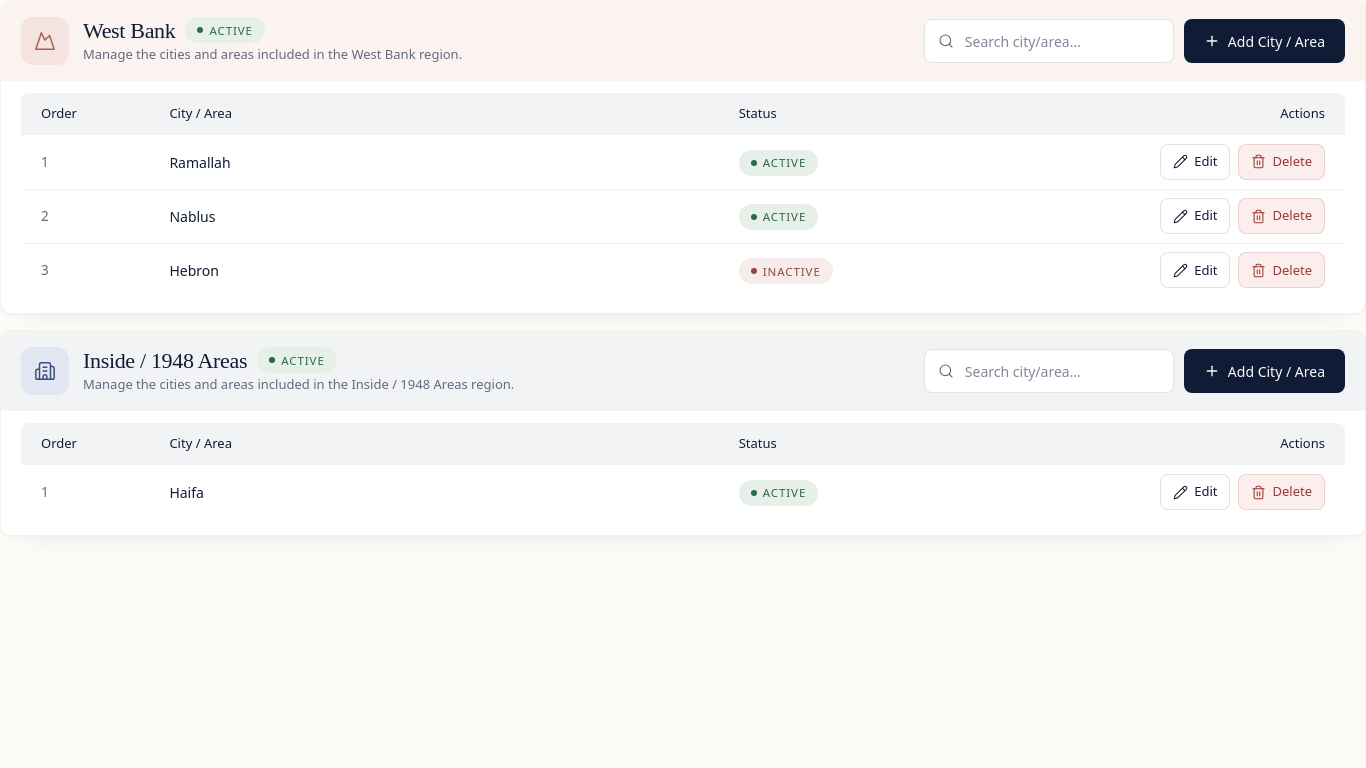
Delete › never deletes on the first click — it asks for confirmation, focusing Cancel
This screenshot has width=1366, height=768.
Click the 1st button "Delete".
click(1282, 162)  # box [1238,144,1325,180]
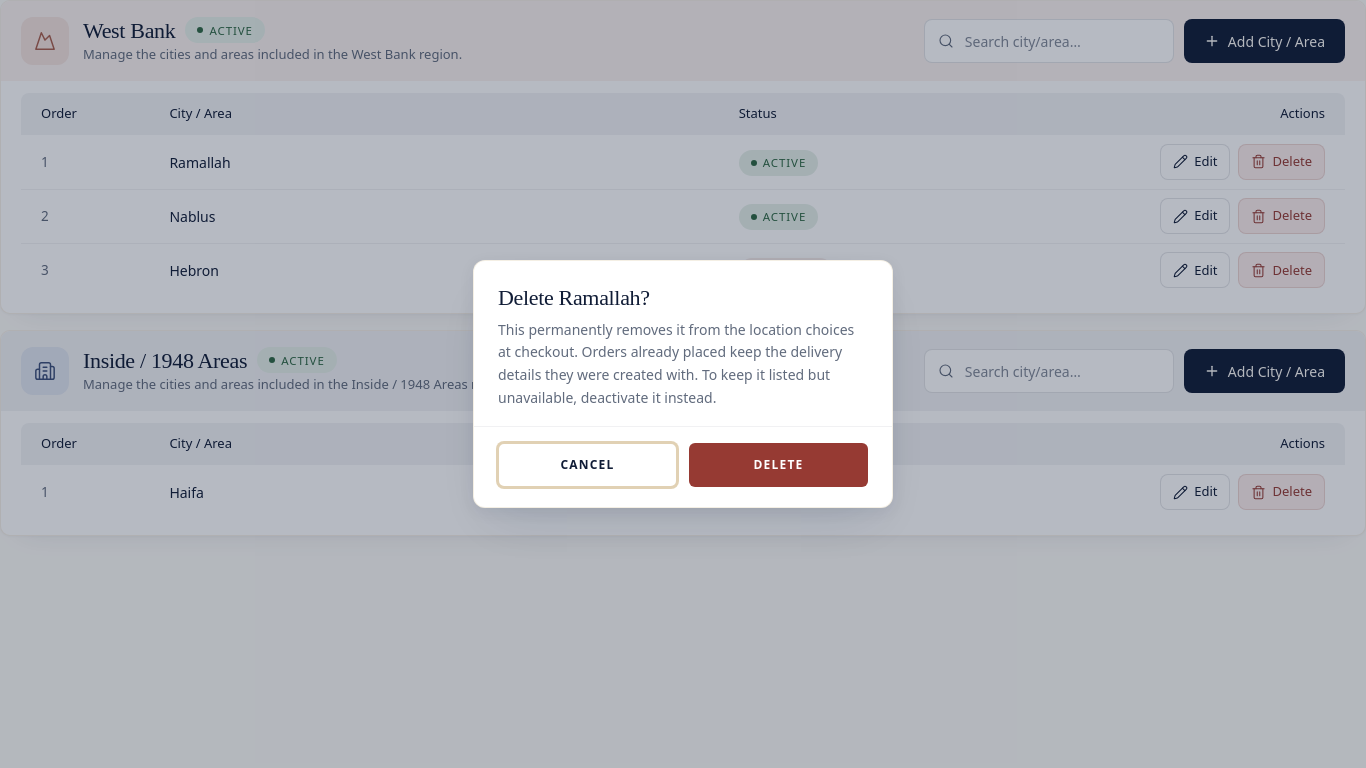
Expected: the heading "Delete Ramallah?" is shown, [498,285,650,310]
